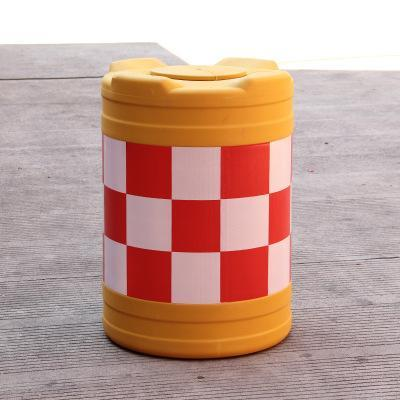sign: (98, 46, 299, 367)
